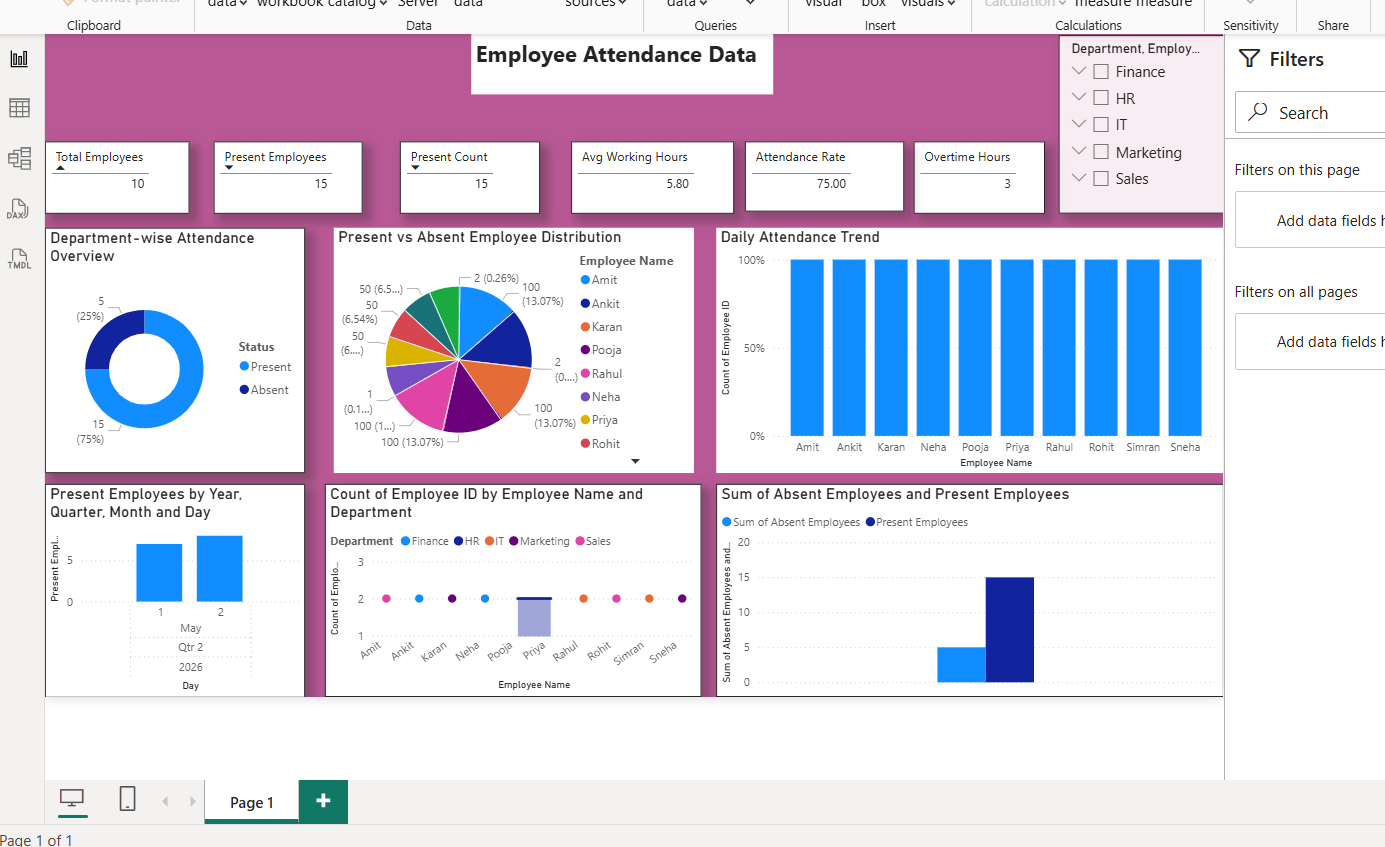

What the dashboard file says about the page in this screenshot:
{"tool":"powerbi","page":{"name":"Page 1","canvas":[1280,720],"ordinal":0},"visuals":[{"type":"textbox","box":[462.4,0,328,65.9],"z":2000},{"type":"areaChart","fields":{"Category":["Attendance_Data.Employee Name"],"Y":["CountNonNull(Attendance_Data.Employee ID)"],"Series":["Attendance_Data.Department"]},"box":[304.1,488.8,408.7,230.8],"z":3000},{"type":"donutChart","title":"Department-wise Attendance Overview","fields":{"Category":["Attendance_Data.Status"],"Y":["CountNonNull(Attendance_Data.Employee ID)"]},"box":[0,209.9,282.7,266.2],"z":4001},{"type":"lineStackedColumnComboChart","fields":{"Category":["Attendance_Data.Date.Variation.Date Hierarchy.Year","Attendance_Data.Date.Variation.Date Hierarchy.Quarter","Attendance_Data.Date.Variation.Date Hierarchy.Month","Attendance_Data.Date.Variation.Date Hierarchy.Day"],"Y":["Attendance_Data.Present Employees"]},"box":[0,488.5,282.7,231.9],"z":4002},{"type":"slicer","fields":{"Values":["Attendance_Data.Department","Attendance_Data.Employee Name","Attendance_Data.Date.Variation.Date Hierarchy.Year","Attendance_Data.Date.Variation.Date Hierarchy.Quarter","Attendance_Data.Date.Variation.Date Hierarchy.Month","Attendance_Data.Date.Variation.Date Hierarchy.Day"]},"box":[1100.5,1.4,179.8,193.5],"z":4003},{"type":"tableEx","fields":{"Values":["Attendance_Data.Total Employees"]},"box":[0,116.6,156.4,78.2],"z":4004},{"type":"tableEx","fields":{"Values":["Attendance_Data.Present Employees"]},"box":[183.9,116.6,161.9,78.2],"z":4005},{"type":"tableEx","fields":{"Values":["Attendance_Data.Present Count"]},"box":[385.6,116.6,152.3,78.2],"z":4006},{"type":"tableEx","fields":{"Values":["Attendance_Data.Avg Working Hours"]},"box":[572.2,116.6,177,78.2],"z":4007},{"type":"tableEx","fields":{"Values":["Attendance_Data.Overtime Hours"]},"box":[944.1,116.6,142.7,78.2],"z":4009},{"type":"clusteredColumnChart","fields":{"Y":["Sum(Attendance_Data.Absent Employees)","Attendance_Data.Present Employees"]},"box":[729.1,488.8,551.2,230.8],"z":4010},{"type":"tableEx","fields":{"Values":["Attendance_Data.Attendance Rate"]},"box":[760.3,116.8,172.4,76],"z":4011},{"type":"pieChart","title":"Present vs Absent Employee Distribution","fields":{"Category":["Attendance_Data.Employee Name"],"Y":["Attendance_Data.Present Count","Attendance_Data.Attendance Rate"]},"box":[313.6,210.4,391,266.1],"z":4012},{"type":"hundredPercentStackedColumnChart","title":"Daily Attendance Trend","fields":{"Category":["Attendance_Data.Employee Name"],"Y":["CountNonNull(Attendance_Data.Employee ID)"]},"box":[729.1,210.4,551.2,266.1],"z":4013}]}

Visuals, with their boxes on the page's 1280x720 design canvas (x1, y1, x2, y2). These are canvas units, not pixel positions in the 1385x847 screenshot, which may show the page scaled, cropped or inside an application window:
textbox: Rect(462, 0, 790, 66)
areaChart - Attendance_Data.Employee Name x CountNonNull(Attendance_Data.Employee ID): Rect(304, 489, 713, 720)
"Department-wise Attendance Overview" donutChart: Rect(0, 210, 283, 476)
lineStackedColumnComboChart - Attendance_Data.Date.Variation.Date Hierarchy.Year x Attendance_Data.Date.Variation.Date Hierarchy.Quarter: Rect(0, 488, 283, 720)
slicer - Attendance_Data.Department x Attendance_Data.Employee Name: Rect(1100, 1, 1280, 195)
tableEx - Attendance_Data.Total Employees: Rect(0, 117, 156, 195)
tableEx - Attendance_Data.Present Employees: Rect(184, 117, 346, 195)
tableEx - Attendance_Data.Present Count: Rect(386, 117, 538, 195)
tableEx - Attendance_Data.Avg Working Hours: Rect(572, 117, 749, 195)
tableEx - Attendance_Data.Overtime Hours: Rect(944, 117, 1087, 195)
clusteredColumnChart - Sum(Attendance_Data.Absent Employees) x Attendance_Data.Present Employees: Rect(729, 489, 1280, 720)
tableEx - Attendance_Data.Attendance Rate: Rect(760, 117, 933, 193)
"Present vs Absent Employee Distribution" pieChart: Rect(314, 210, 705, 476)
"Daily Attendance Trend" hundredPercentStackedColumnChart: Rect(729, 210, 1280, 476)
